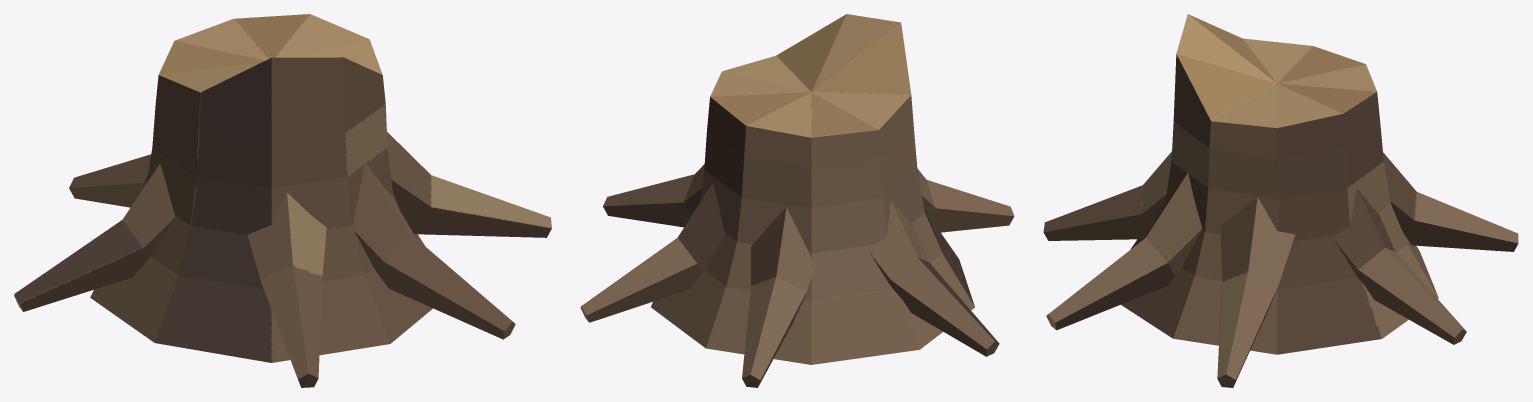
Rendered from SM_Stump.fbx.
3 views of the same model, side by side, from view 1: azimuth 30°, elevation 25°; view 2: azimuth 150°, elevation 25°; view 3: azimuth 270°, elevation 25° (orthographic). The views are drawn at different scales.
Visible parts, largest first — view 1: SM_Stump_LOD0; view 2: SM_Stump_LOD0; view 3: SM_Stump_LOD0.
Boxes of the visible parts, x1,y1,x2,y2 form: SM_Stump_LOD0: [14, 14, 551, 387]; SM_Stump_LOD0: [580, 14, 1014, 387]; SM_Stump_LOD0: [1043, 14, 1518, 387].
Size of what is drawn, in the model's own units: 1.52 by 0.8295 by 1.43.
